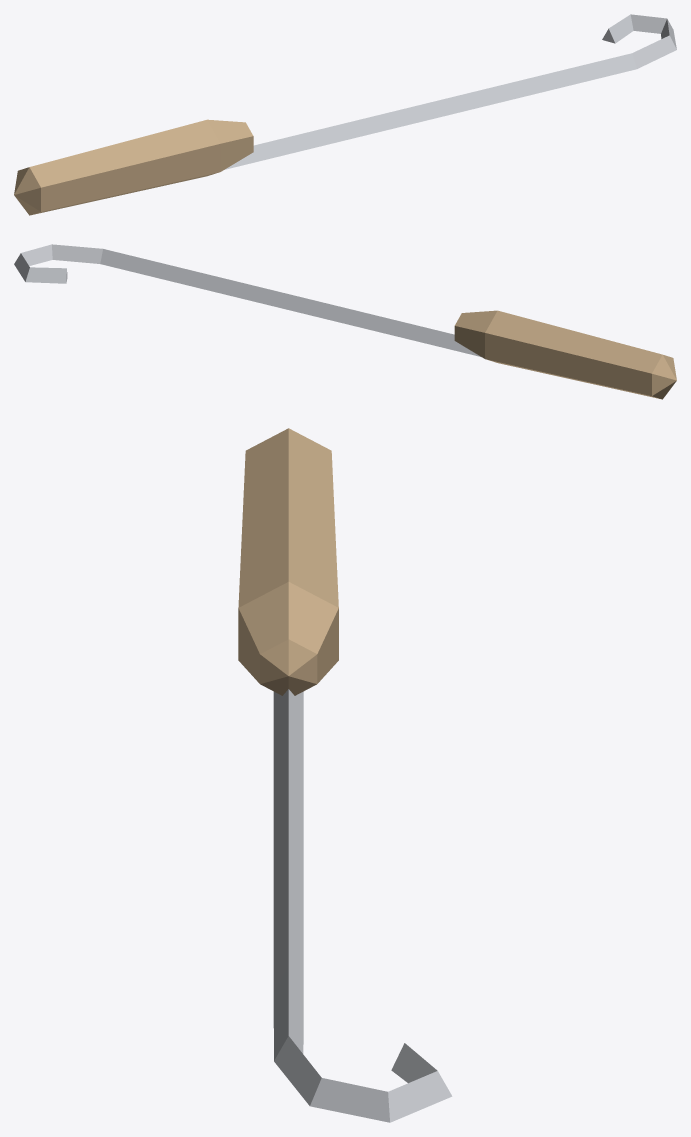
File: prop-orifice-hook.fbx
The picture shows the model from 3 angles, top to bottom: view 1: azimuth 30°, elevation 25°; view 2: azimuth 150°, elevation 25°; view 3: azimuth 270°, elevation 25°; orthographic projection. The views are drawn at different scales.
Parts seen in each view (by area): view 1: prop-orifice-hook; view 2: prop-orifice-hook; view 3: prop-orifice-hook.
Part boxes in pixels (bbox=[...]): prop-orifice-hook: bbox=[14, 14, 676, 215]; prop-orifice-hook: bbox=[14, 244, 676, 399]; prop-orifice-hook: bbox=[238, 428, 452, 1122].
Bounding box in the file's own units: 17.78 × 1.4 × 2.58.
